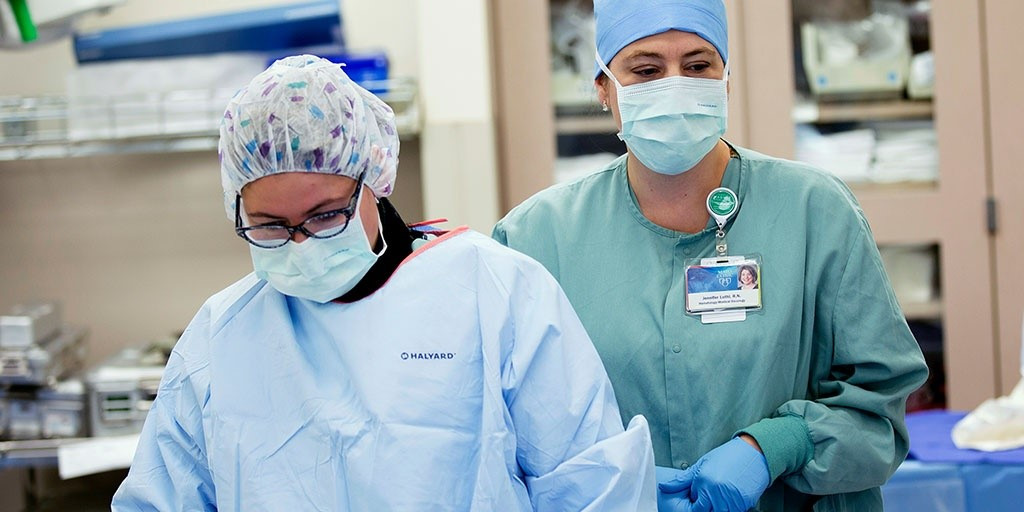face_with_mask: (216, 92, 387, 320), (586, 9, 740, 189)
